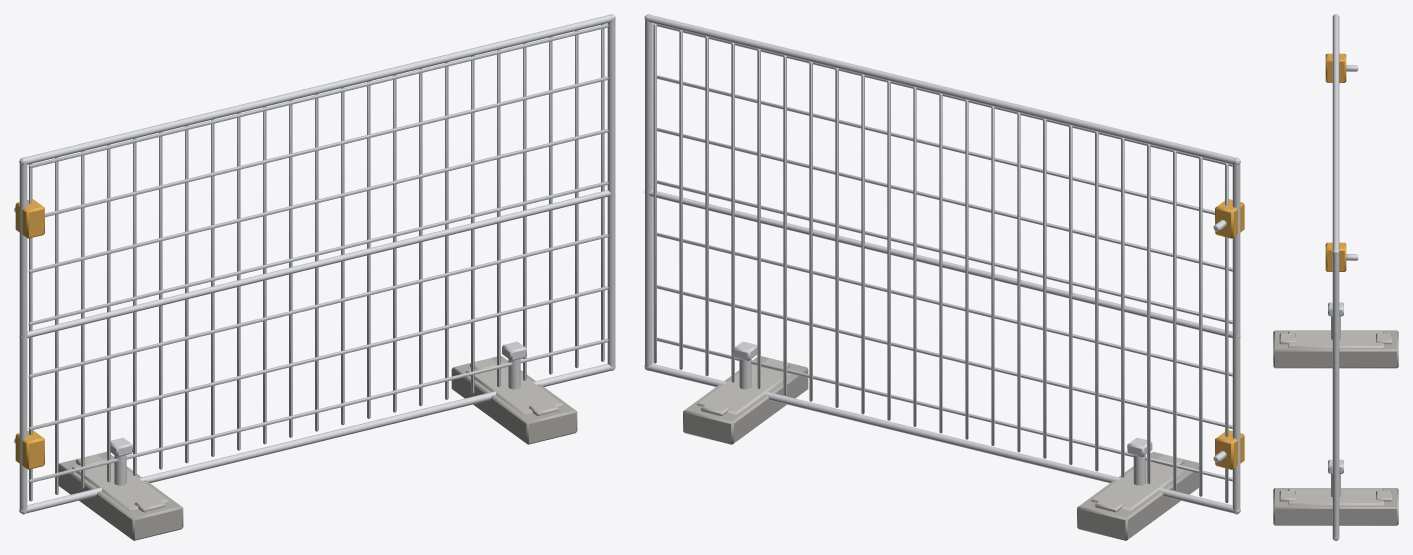
File: th21_bauzaun_modul.glb
3 renders of one model, left to right at view 1: azimuth 30°, elevation 25°; view 2: azimuth 150°, elevation 25°; view 3: azimuth 270°, elevation 25°, orthographic. The views are drawn at different scales.
Parts seen in each view (by area): view 1: Cylinder.003, Cylinder.004, Cylinder.002, Cube.030, Cube.035, Cylinder.001, Cylinder, Cube.026, Cube.024, Cube.029, Cube.025, Cube.027 (+29 smaller); view 2: Cylinder.003, Cylinder.002, Cylinder.004, Cube.035, Cube.030, Cylinder, Cylinder.001, Cube.026, Cube.025, Cube.027, Cube.024, Cube.028 (+29 smaller); view 3: Cube.030, Cube.035, Cylinder.001, Cylinder.003, Cube.036, Cube.031, Cube.040, Cube.041, Cube.037, Cube.038, Cube.032, Cube.033.
Boxes of the visible parts, bbox=[...] form: Cylinder.003: bbox=[19, 15, 615, 164]; Cylinder.004: bbox=[19, 190, 615, 338]; Cylinder.002: bbox=[19, 364, 615, 514]; Cube.030: bbox=[58, 451, 183, 540]; Cube.035: bbox=[451, 356, 577, 444]; Cylinder.001: bbox=[607, 14, 615, 370]; Cylinder: bbox=[19, 157, 27, 514]; Cube.026: bbox=[28, 181, 608, 325]; Cube.024: bbox=[28, 286, 608, 430]; Cube.029: bbox=[28, 24, 608, 168]; Cube.025: bbox=[28, 234, 608, 378]; Cube.027: bbox=[28, 129, 608, 273]; Cylinder.003: bbox=[644, 15, 1240, 164]; Cylinder.002: bbox=[644, 364, 1240, 514]; Cylinder.004: bbox=[644, 190, 1240, 338]; Cube.035: bbox=[683, 356, 808, 444]; Cube.030: bbox=[1077, 451, 1198, 540]; Cylinder: bbox=[1232, 157, 1240, 514]; Cylinder.001: bbox=[645, 14, 652, 370]; Cube.026: bbox=[657, 180, 1232, 323]; Cube.025: bbox=[657, 232, 1232, 376]; Cube.027: bbox=[657, 127, 1232, 271]; Cube.024: bbox=[657, 285, 1232, 428]; Cube.028: bbox=[657, 75, 1214, 214]; Cube.030: bbox=[1273, 330, 1398, 368]; Cube.035: bbox=[1273, 488, 1398, 525]; Cylinder.001: bbox=[1332, 248, 1339, 540]; Cylinder.003: bbox=[1332, 15, 1339, 254]; Cube.036: bbox=[1288, 488, 1383, 505]; Cube.031: bbox=[1288, 331, 1383, 347]; Cube.040: bbox=[1325, 242, 1346, 271]; Cube.041: bbox=[1325, 53, 1346, 82]; Cube.037: bbox=[1279, 490, 1295, 501]; Cube.038: bbox=[1376, 490, 1392, 501]; Cube.032: bbox=[1279, 333, 1295, 344]; Cube.033: bbox=[1376, 333, 1392, 344].
Size of the model in its own units: 3.5 by 2.1 by 0.78.
